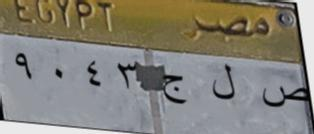0: (50, 63, 67, 87)
3: (114, 57, 139, 96)
4: (84, 57, 104, 95)
9: (13, 47, 34, 85)
jeem: (160, 68, 190, 110)
laam: (205, 59, 238, 111)
saad: (258, 79, 310, 115)
